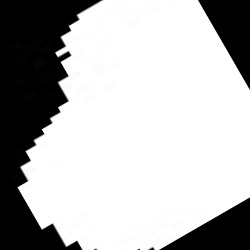spot: (18, 1, 247, 248)
